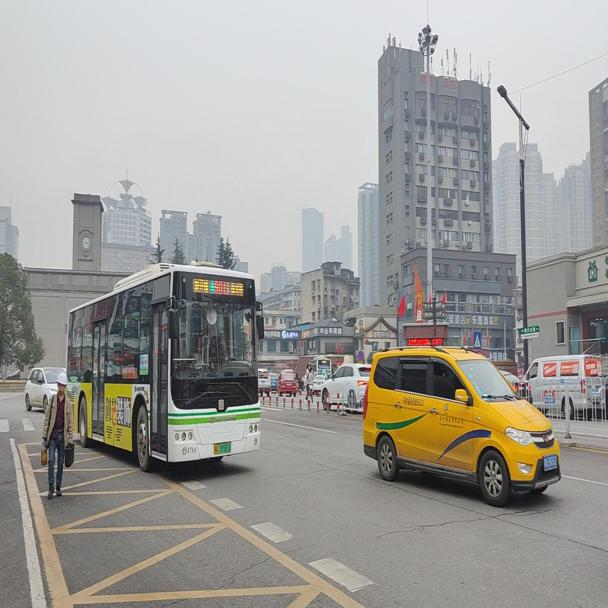bus: (65, 258, 264, 471)
screen: (214, 279, 226, 294)
